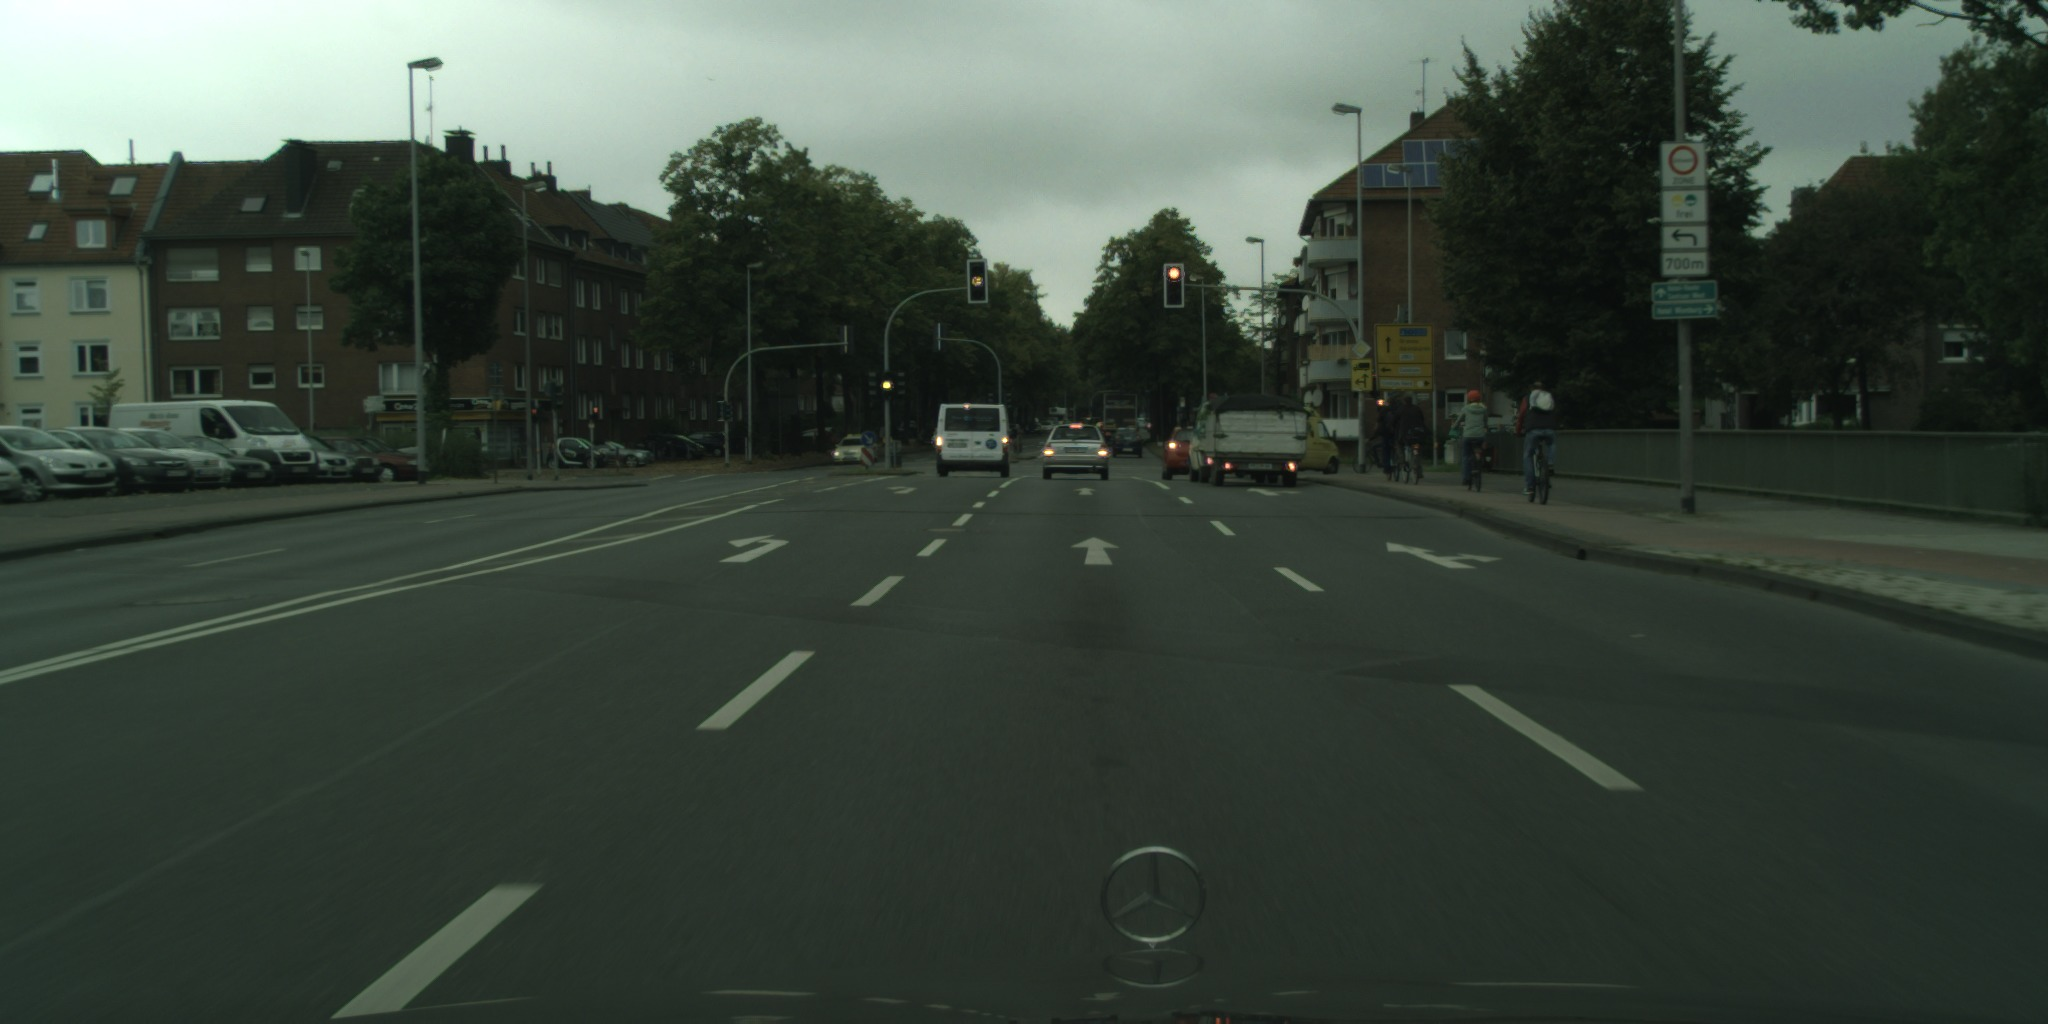bicycle: (1469, 439, 1498, 494), (1528, 438, 1550, 506), (1400, 426, 1425, 486), (1387, 441, 1400, 484)
car: (107, 400, 317, 482), (1188, 392, 1307, 489), (39, 426, 194, 496), (0, 426, 120, 504), (102, 427, 233, 492), (165, 433, 273, 488), (936, 403, 1014, 478), (1278, 404, 1343, 476), (1037, 422, 1109, 482), (301, 438, 384, 483), (347, 438, 423, 482), (293, 438, 358, 481), (1162, 425, 1204, 480), (581, 439, 656, 470), (630, 434, 708, 463), (545, 438, 607, 469), (831, 433, 878, 464), (0, 450, 25, 507), (686, 431, 727, 456), (1112, 429, 1144, 459)
rider: (1516, 380, 1556, 496), (1450, 388, 1489, 488), (1391, 396, 1427, 464), (1376, 404, 1399, 475)
truck: (1103, 392, 1137, 443)
